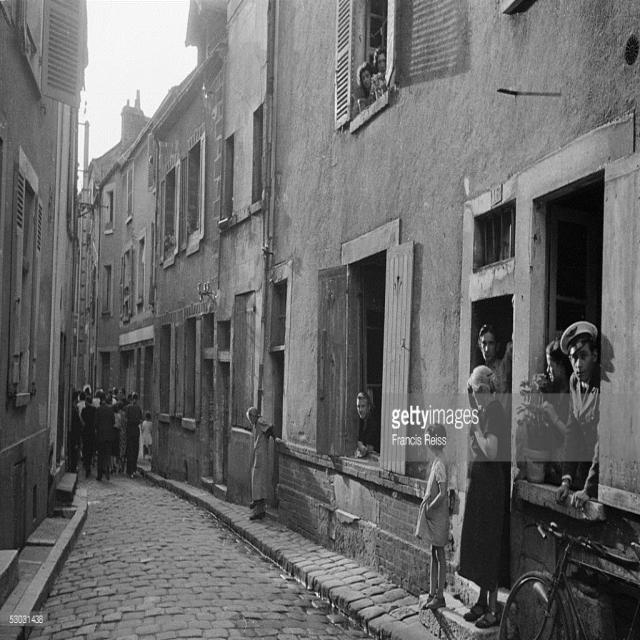body: (454, 362, 514, 630), (555, 320, 601, 512), (415, 422, 451, 610), (536, 338, 575, 490), (244, 405, 282, 522), (477, 322, 513, 414), (92, 397, 116, 482), (122, 391, 144, 479), (354, 46, 389, 96), (356, 390, 381, 458), (80, 394, 100, 478), (71, 386, 137, 409), (69, 410, 84, 472), (113, 408, 127, 474), (141, 412, 153, 462), (160, 223, 178, 249), (186, 212, 201, 233), (122, 283, 130, 310)
